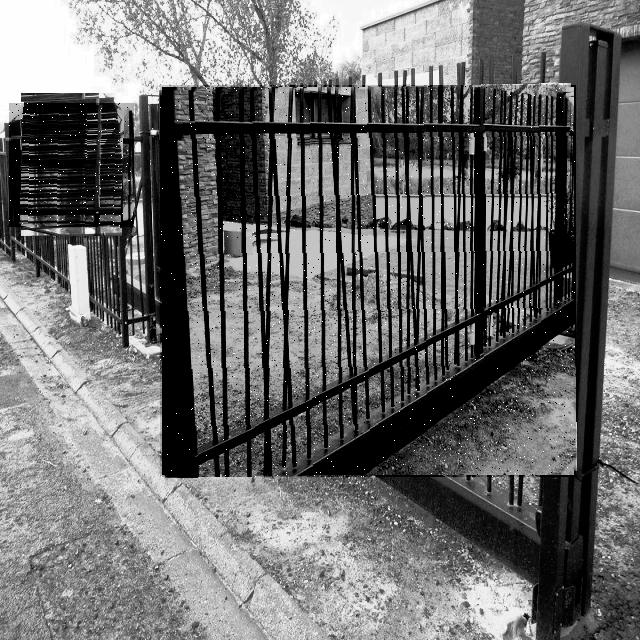fences: (160, 85, 576, 477), (9, 103, 134, 227)
